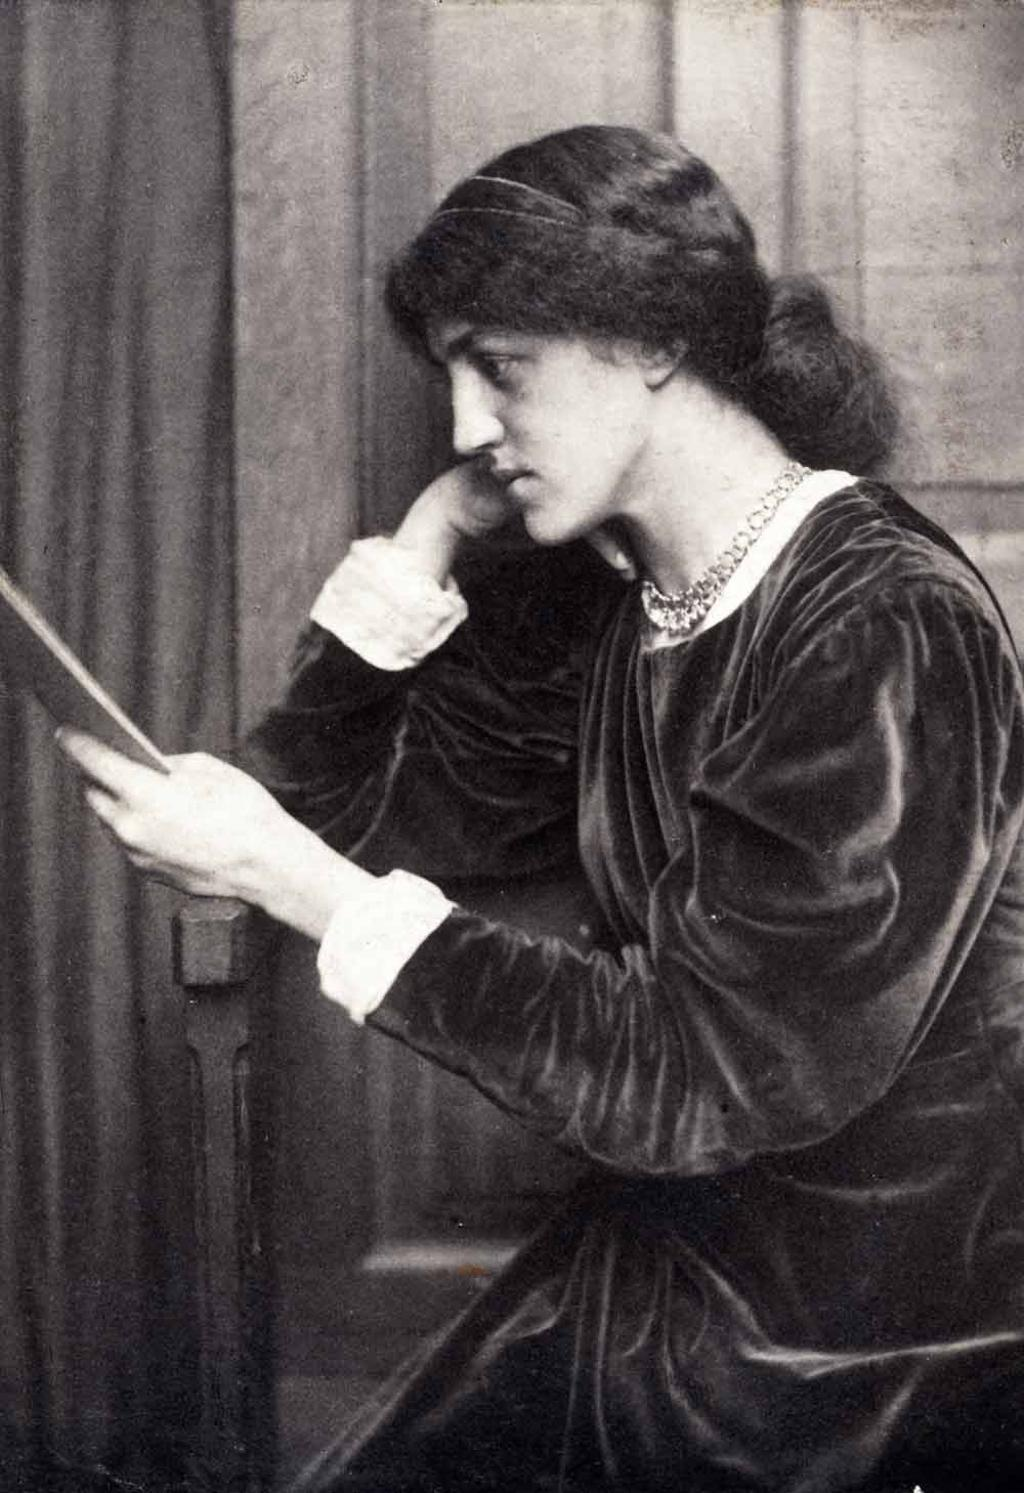face: (429, 263, 654, 543)
